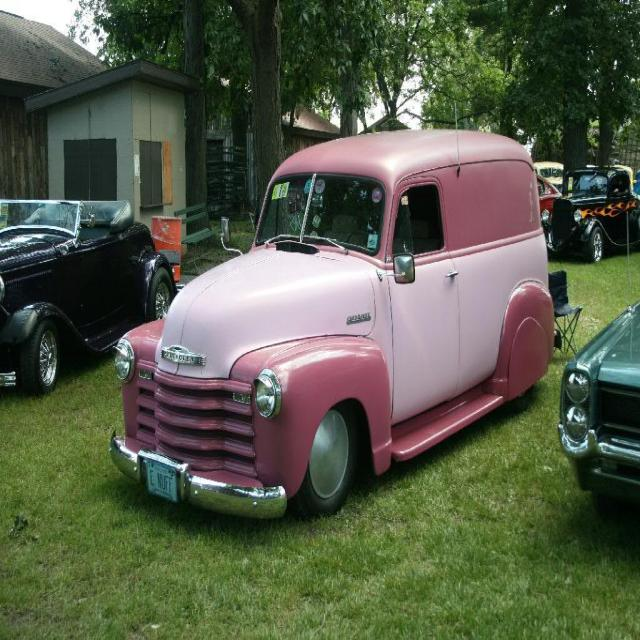car: (113, 142, 565, 520)
